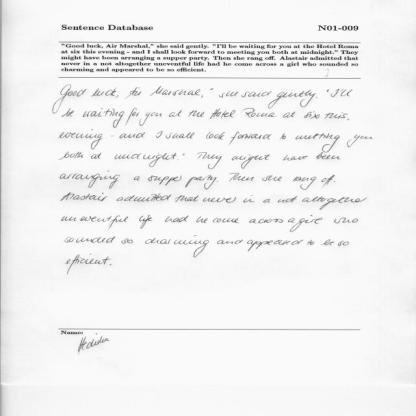Handwritten text: (49, 81, 358, 107), (55, 186, 370, 211), (56, 146, 345, 173), (53, 126, 382, 149), (54, 209, 366, 233), (57, 106, 353, 131), (54, 169, 341, 194), (58, 231, 367, 253), (62, 249, 119, 277)
